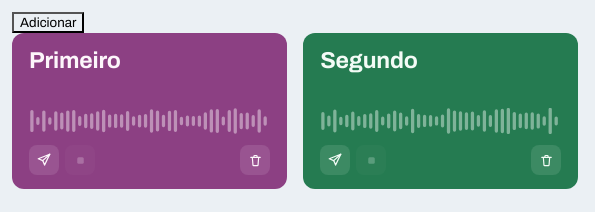
Test case: FavoritesPanel › steps the other cards back while a clip plays locally, but lets it replay
The image size is (595, 212).
Click the button "Primeiro": (75, 61) x1=29 y1=49 x2=121 y2=73
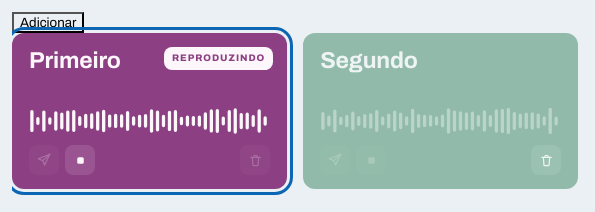
Result: the text "Reproduzindo" is shown at x1=164 y1=47 x2=273 y2=70
Result: the button "Segundo" is disabled at x1=320 y1=49 x2=418 y2=73
Result: the button named "Reproduzir no Discord" below "Reproduzindo" is disabled at x1=29 y1=145 x2=59 y2=175
